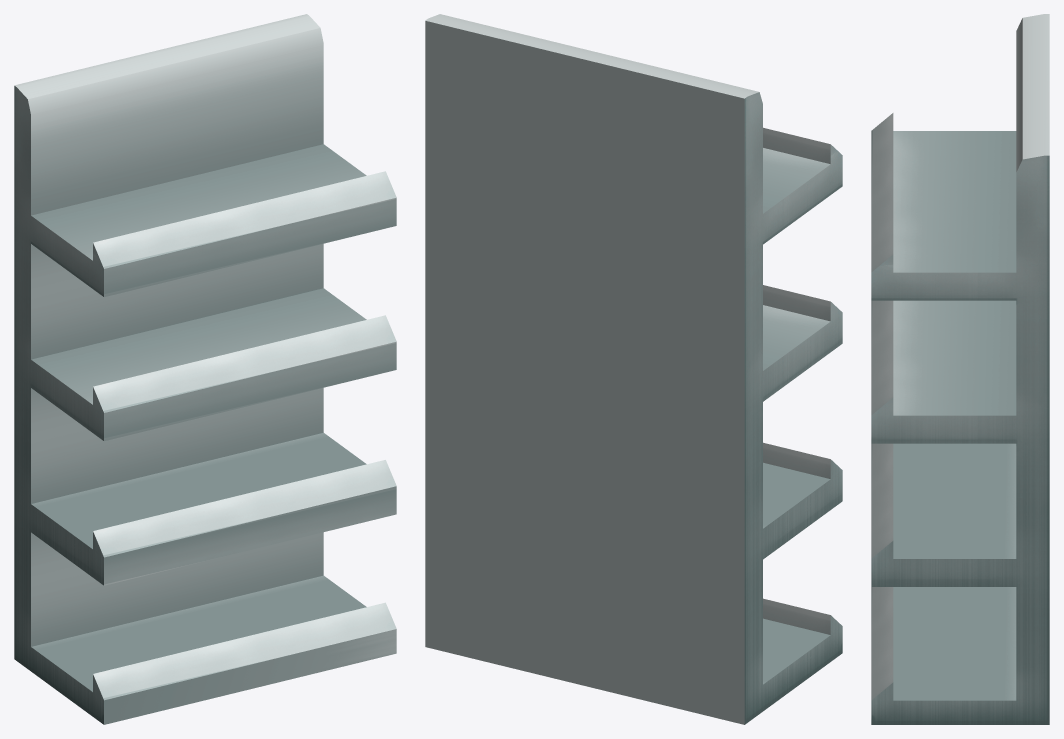
Rendered from confectionery_shelf.fbx.
3 renders of one model, left to right at view 1: azimuth 30°, elevation 25°; view 2: azimuth 150°, elevation 25°; view 3: azimuth 270°, elevation 25°, orthographic. The views are drawn at different scales.
Parts seen in each view (by area): view 1: Object046; view 2: Object046; view 3: Object046.
Boxes of the visible parts, left/top/right/bottom form: Object046: left=14, top=14, right=396, bottom=724; Object046: left=425, top=14, right=842, bottom=724; Object046: left=871, top=14, right=1049, bottom=724.
Size of the model in its own units: 79.92 by 150 by 42.51.
